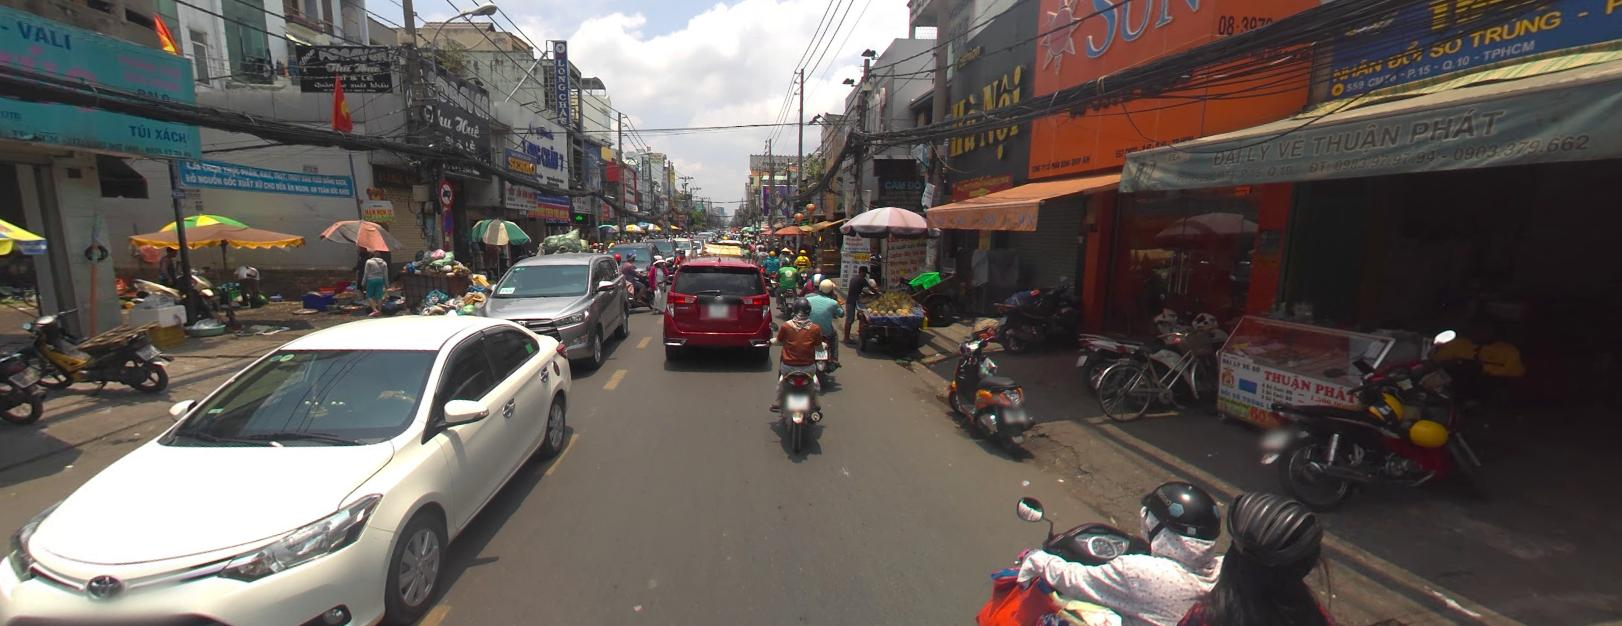Cam con lai: (438, 178, 454, 205)
Cam dung va do: (439, 207, 454, 234)
